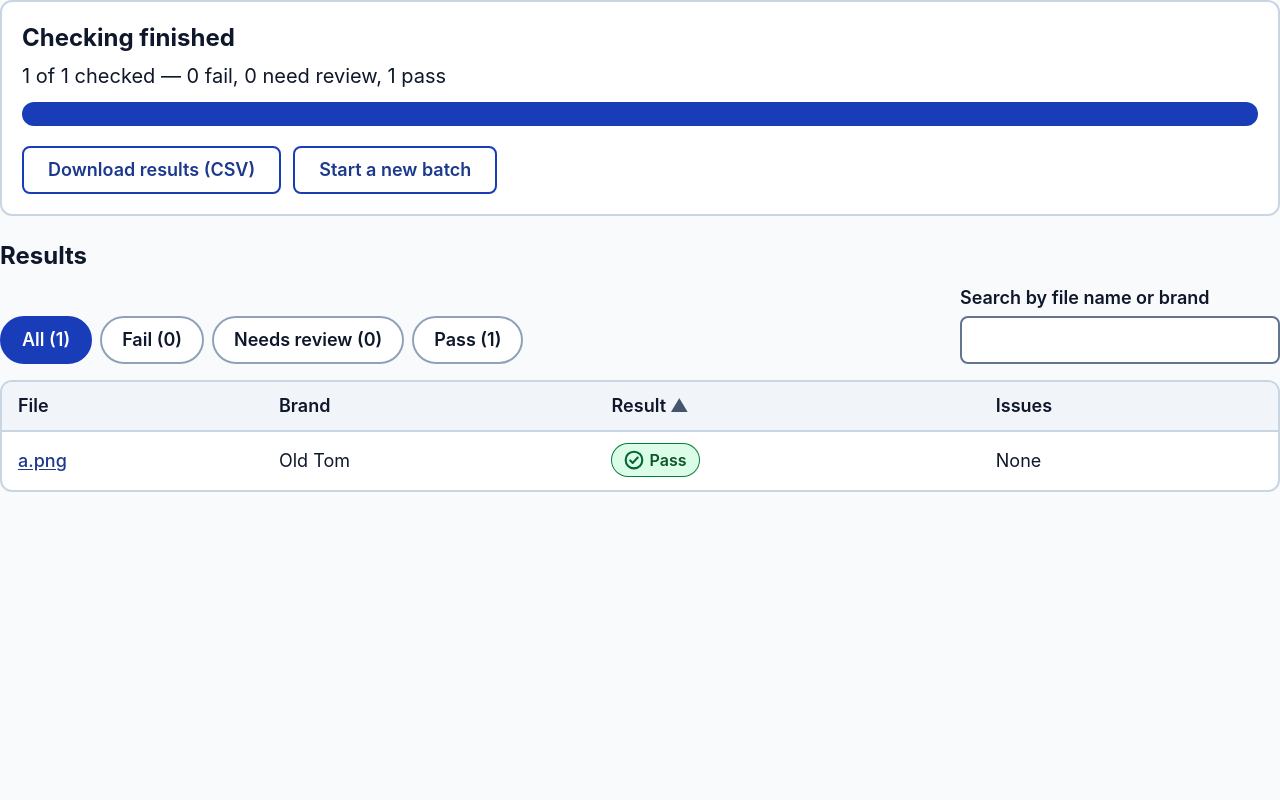
it: clicking a row opens the detail panel and Escape closes it
Click the button "a.png" at (42, 461), box [18, 447, 67, 475]
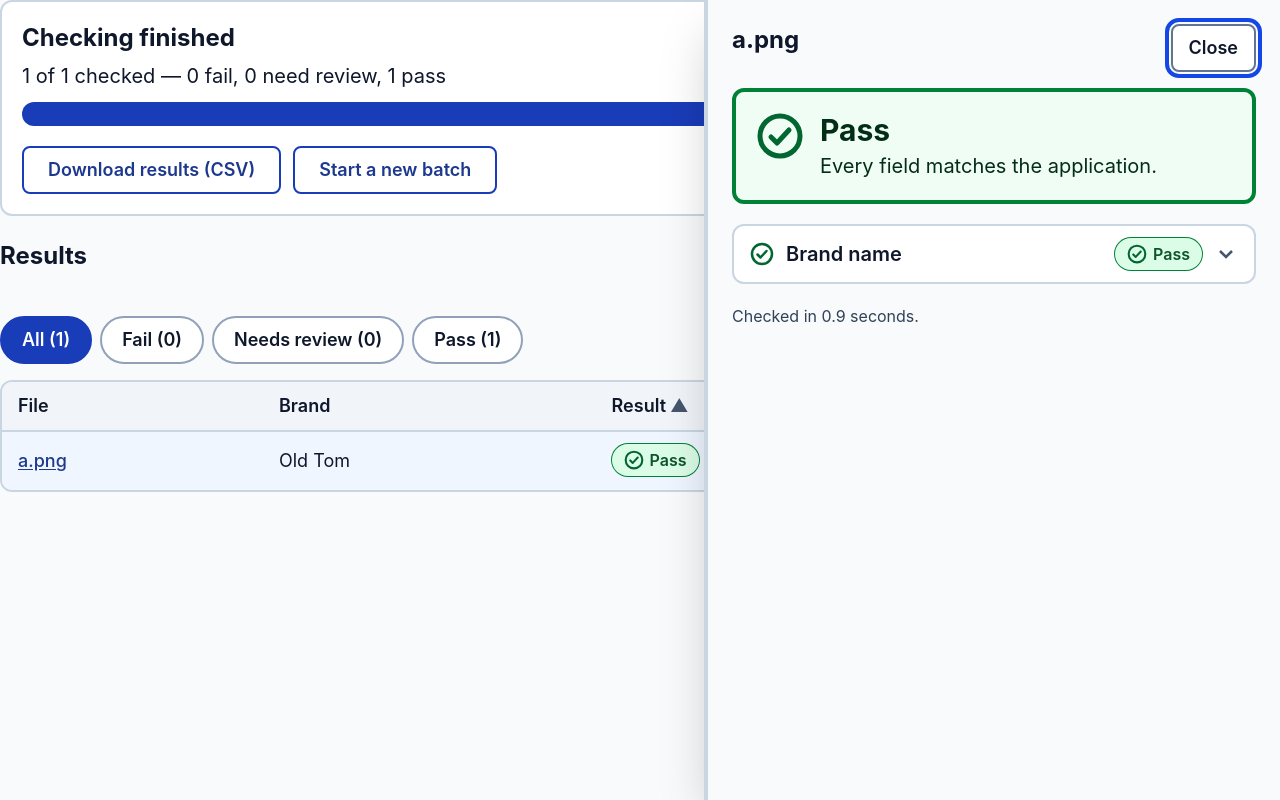
Expected: the heading "Pass" is shown, [820, 112, 890, 148]
Press Escape
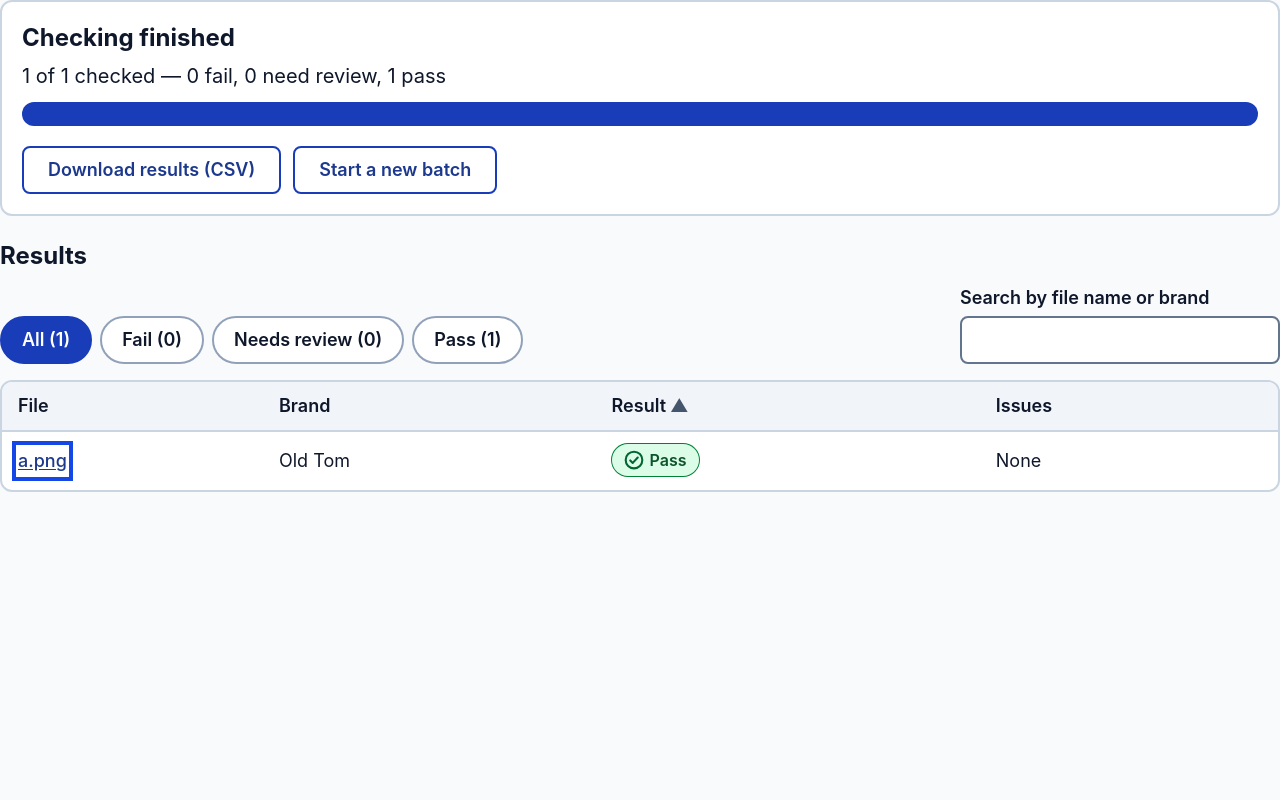
Expected: the dialog is gone
